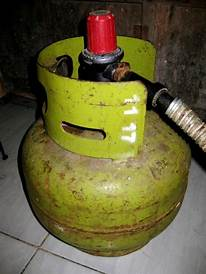gas_ijo: (21, 33, 191, 258)
